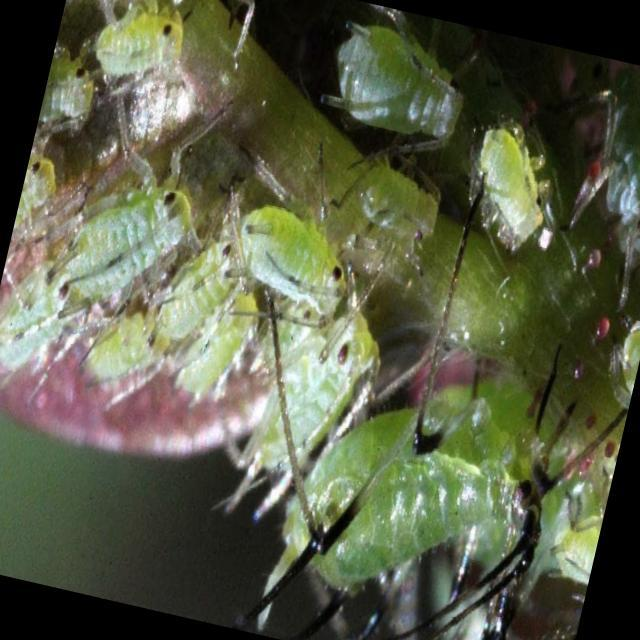aphid: (262, 259, 616, 640), (44, 96, 232, 338), (236, 266, 390, 506), (210, 168, 377, 356), (439, 92, 593, 284), (315, 14, 486, 160), (563, 69, 640, 287), (80, 0, 213, 113), (325, 146, 455, 256), (150, 218, 253, 356), (72, 292, 186, 412)
